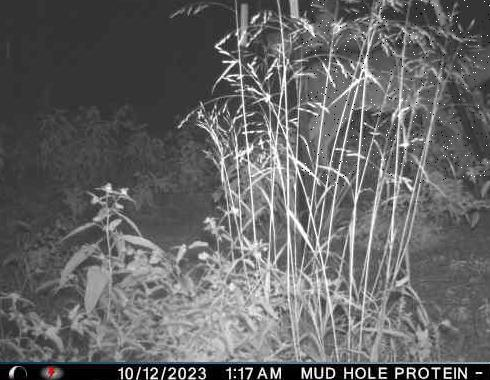Deer: (301, 0, 490, 186)
